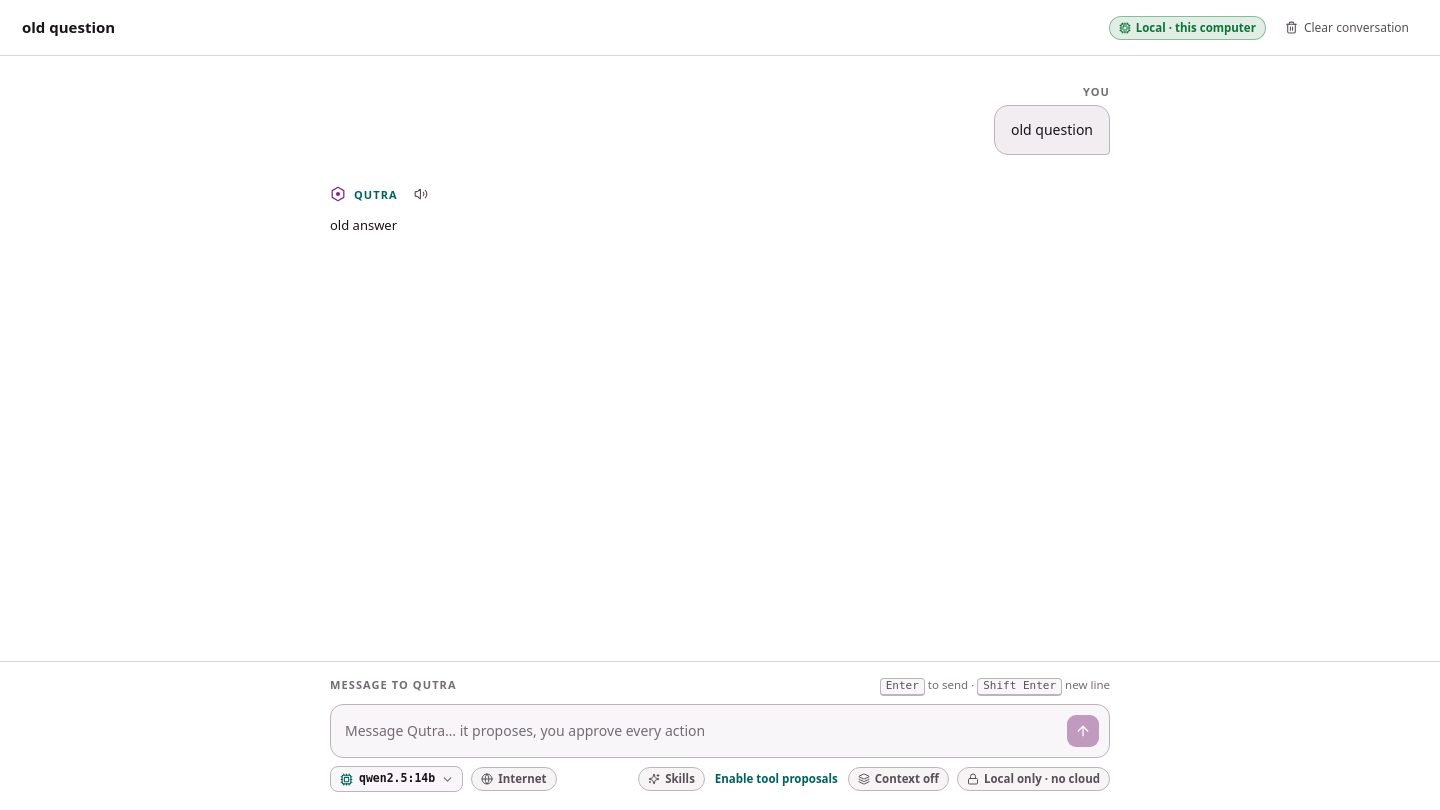
it: an erase wins over a turn already under way › a late answer after Settings cleared everything is neither shown nor saved
The width and height of the screenshot is (1440, 810).
In the text box labelled "Message to Qutra": (702, 732) x1=345 y1=718 x2=1059 y2=747, type "new question"
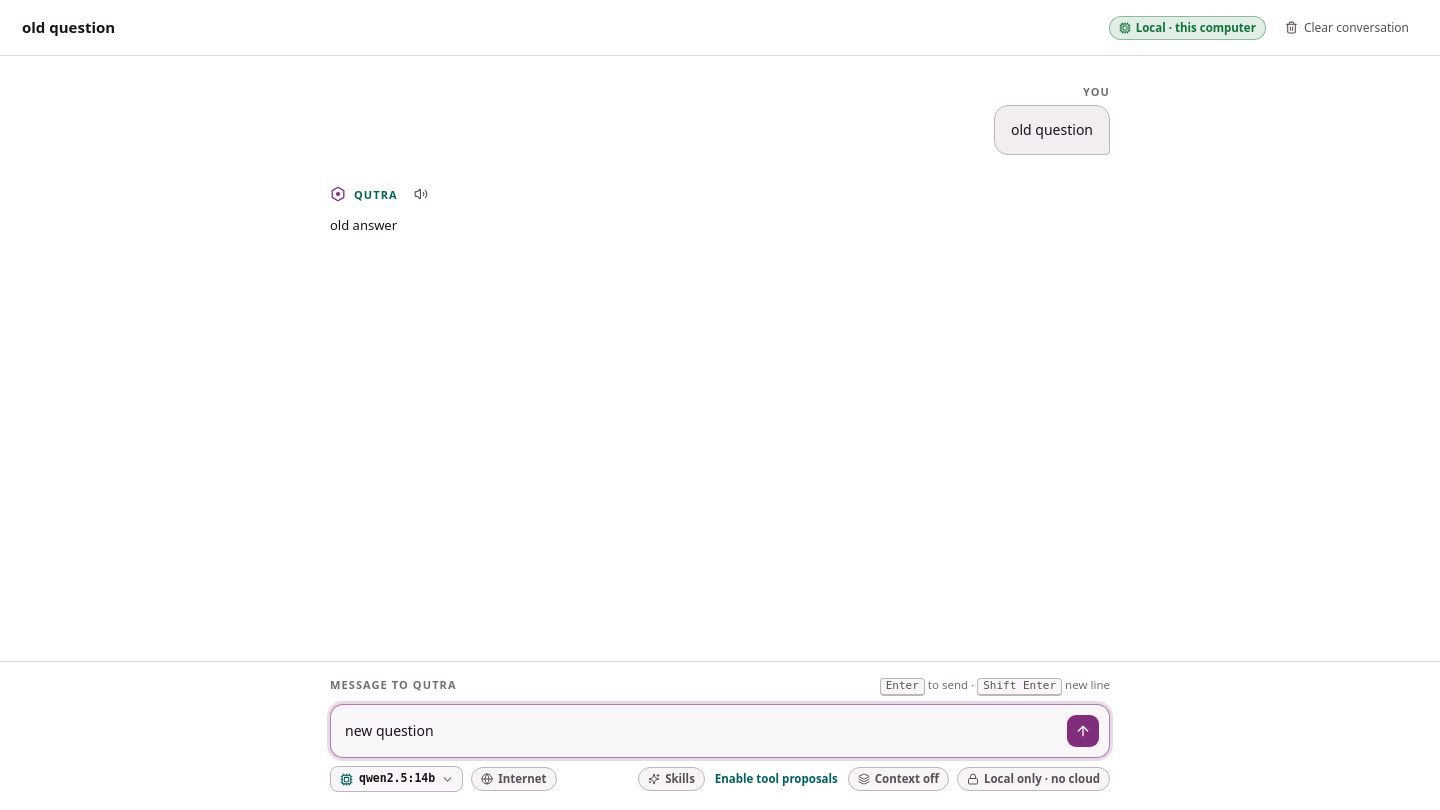
Click the button named "Send": (1083, 731) x1=1067 y1=715 x2=1099 y2=747
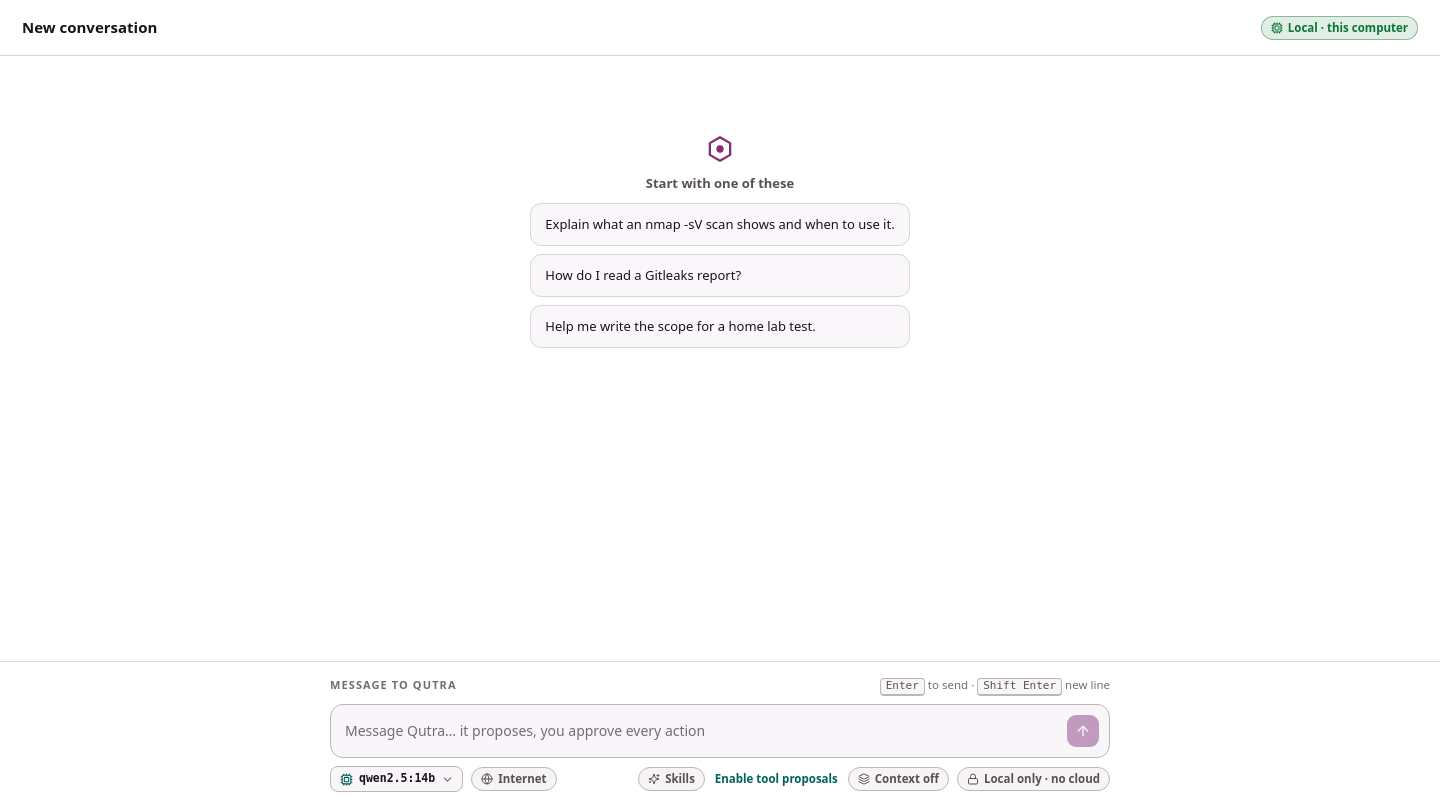
Expected: the heading "old question" is gone
